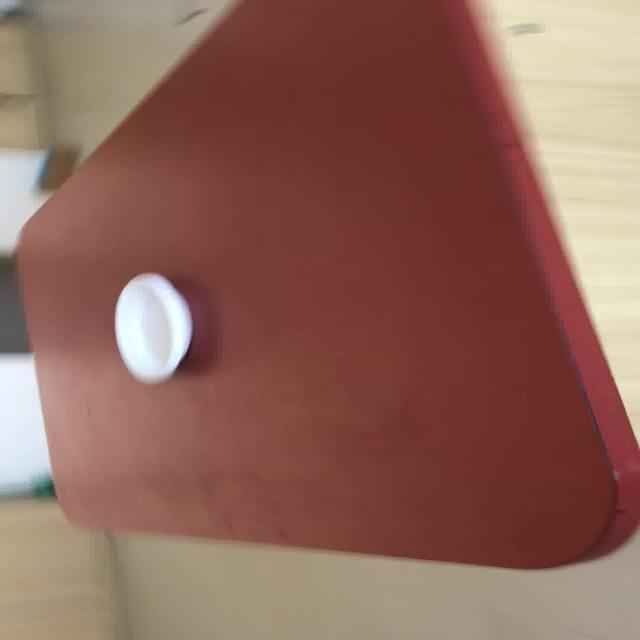plate: (13, 0, 637, 569), (112, 271, 193, 384)
